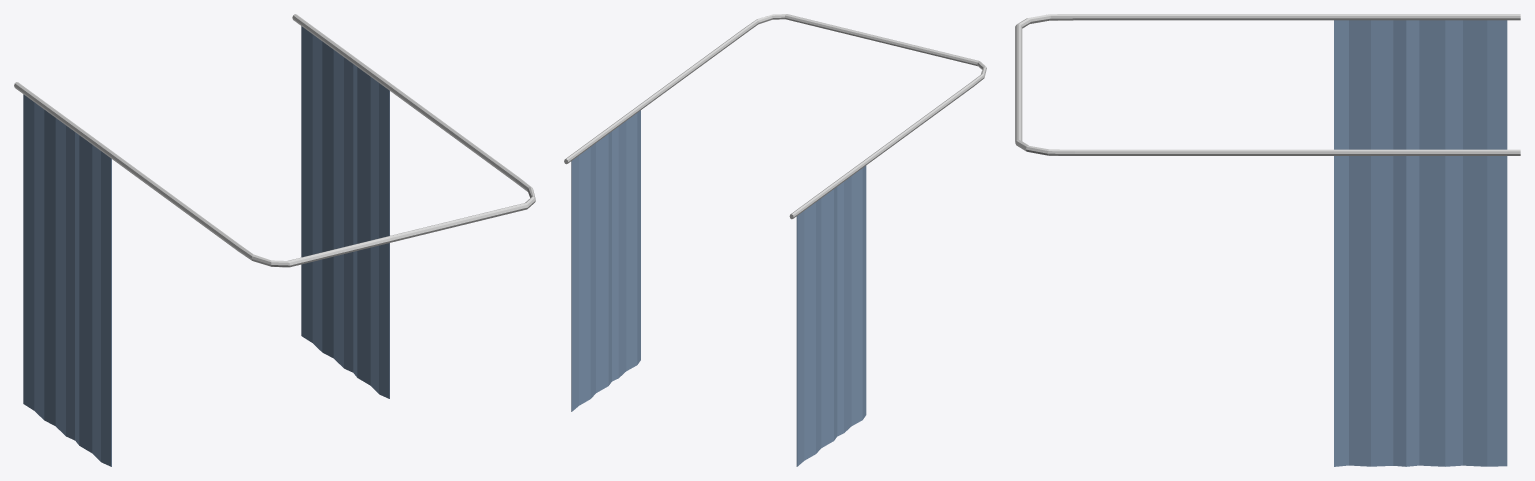
File: curtain.fbx
The picture shows the model from 3 angles, left to right: view 1: azimuth 30°, elevation 25°; view 2: azimuth 150°, elevation 25°; view 3: azimuth 270°, elevation 25°; orthographic projection. The views are drawn at different scales.
Parts seen in each view (by area): view 1: H_Curtain_1; view 2: H_Curtain_1; view 3: H_Curtain_1.
Boxes of the visible parts, <box> form: H_Curtain_1: <box>14,14,535,466</box>; H_Curtain_1: <box>564,14,986,466</box>; H_Curtain_1: <box>1015,14,1520,466</box>.
Bounding box in the file's own units: 1157 × 1789 × 1236.
